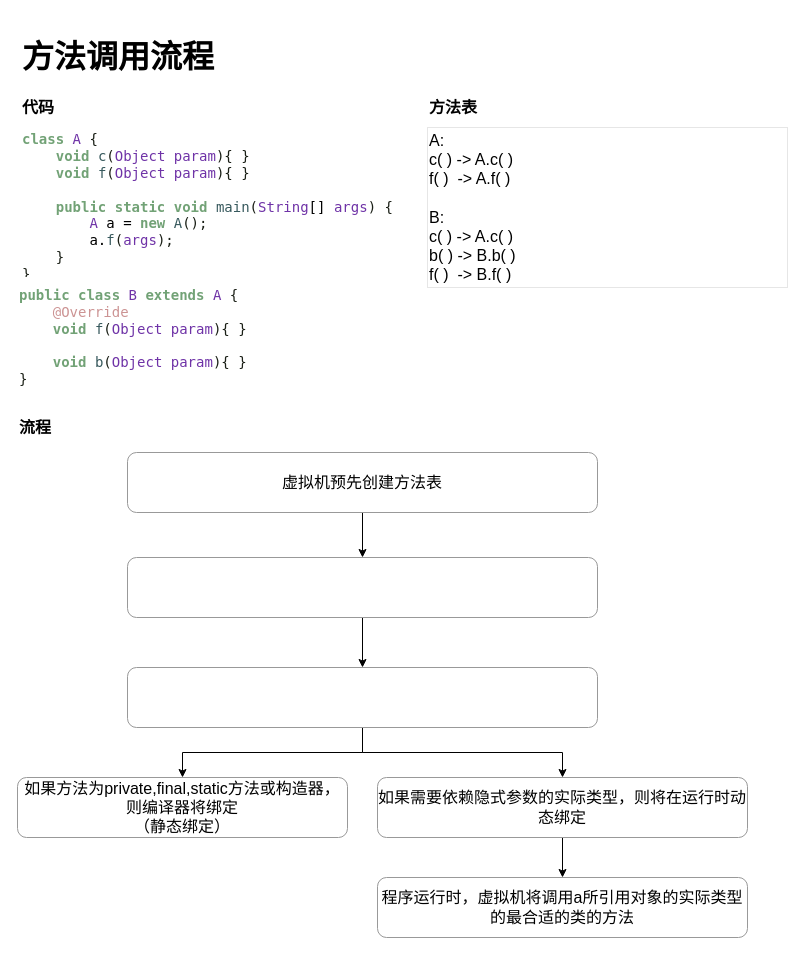
Image size: 805x955. Some labels were removed from this diagram. Each missing label, with the centre of its shape:
编译器查找A类中名称为f和超类中名称为f类型为public的方法: the point at 362,587
编译器查看调用方法时提供的参数类型，选择完全匹配的方法 （重载解析）: the point at 362,697
